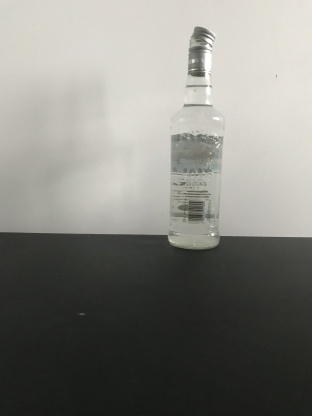nakretka: (186, 24, 217, 77)
